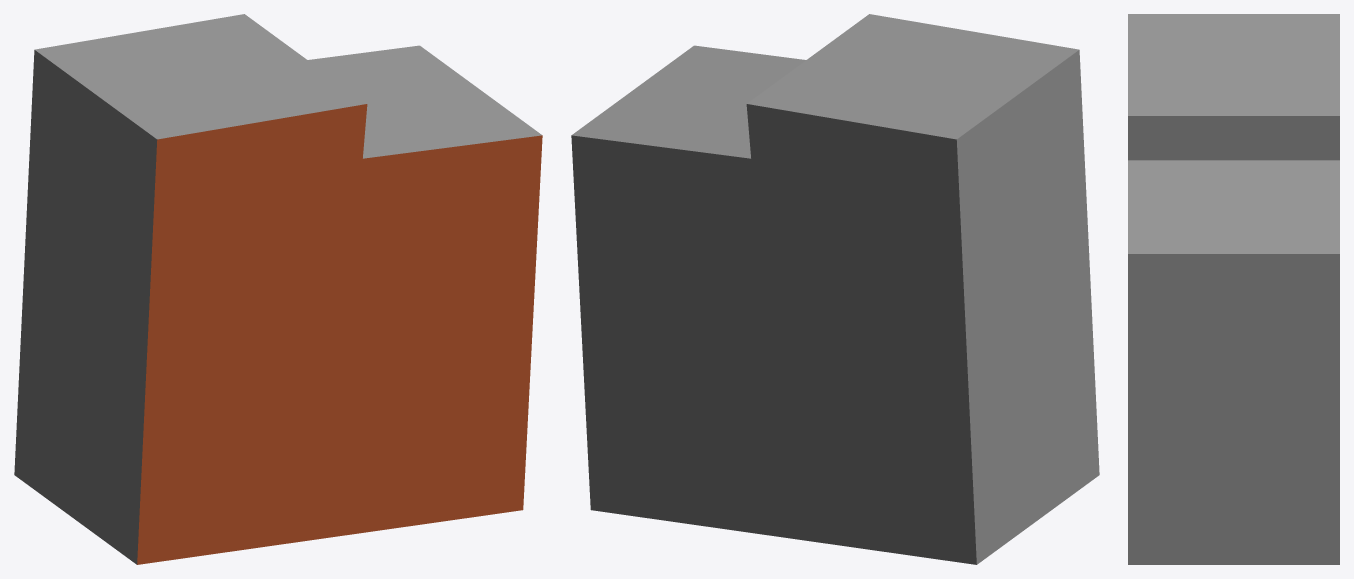
The model's file is construction_5258_assumed_A_Casa_h6m.obj.
3 renders of one model, left to right at view 1: azimuth 30°, elevation 25°; view 2: azimuth 150°, elevation 25°; view 3: azimuth 270°, elevation 25°, orthographic. The views are drawn at different scales.
Parts seen in each view (by area): view 1: construction_5258_assumed_A_Casa; view 2: construction_5258_assumed_A_Casa; view 3: construction_5258_assumed_A_Casa.
Boxes of the visible parts, x1,y1,x2,y2 form: construction_5258_assumed_A_Casa: (14,14,542,564); construction_5258_assumed_A_Casa: (571,14,1099,564); construction_5258_assumed_A_Casa: (1128,14,1339,564).
Bounding box in the file's own units: 11.44 × 12.4 × 6.
